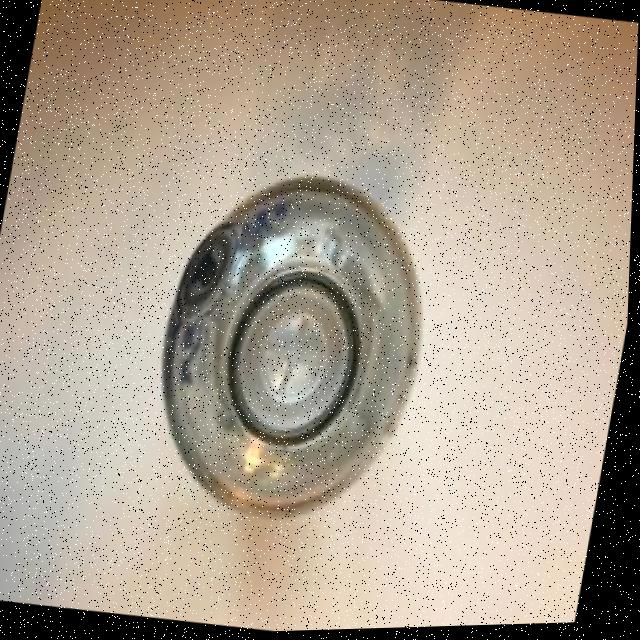glass: (134, 157, 453, 544)
